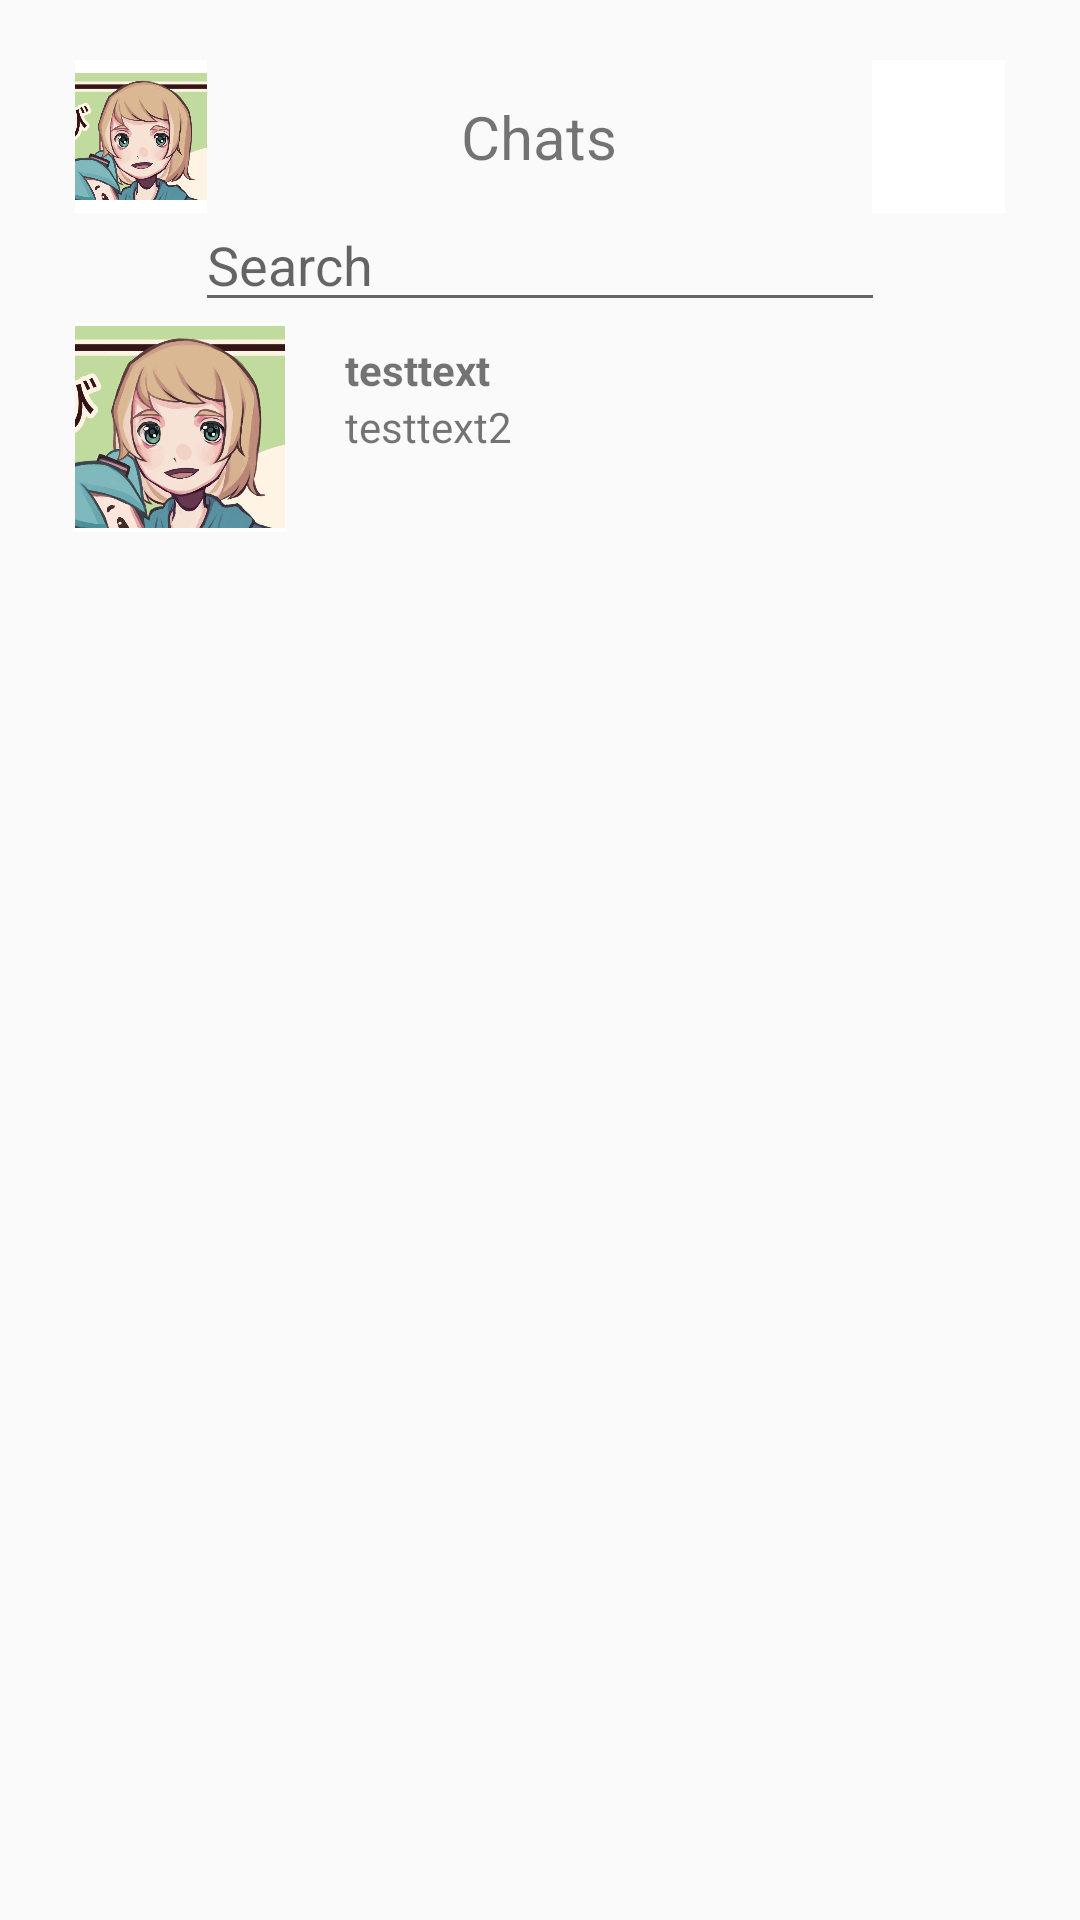

Where icons sit on this 1080×1920 app screen, as (x1, y1, x2, y2):
User's avatar: (75, 73, 207, 200), (75, 326, 285, 528)
